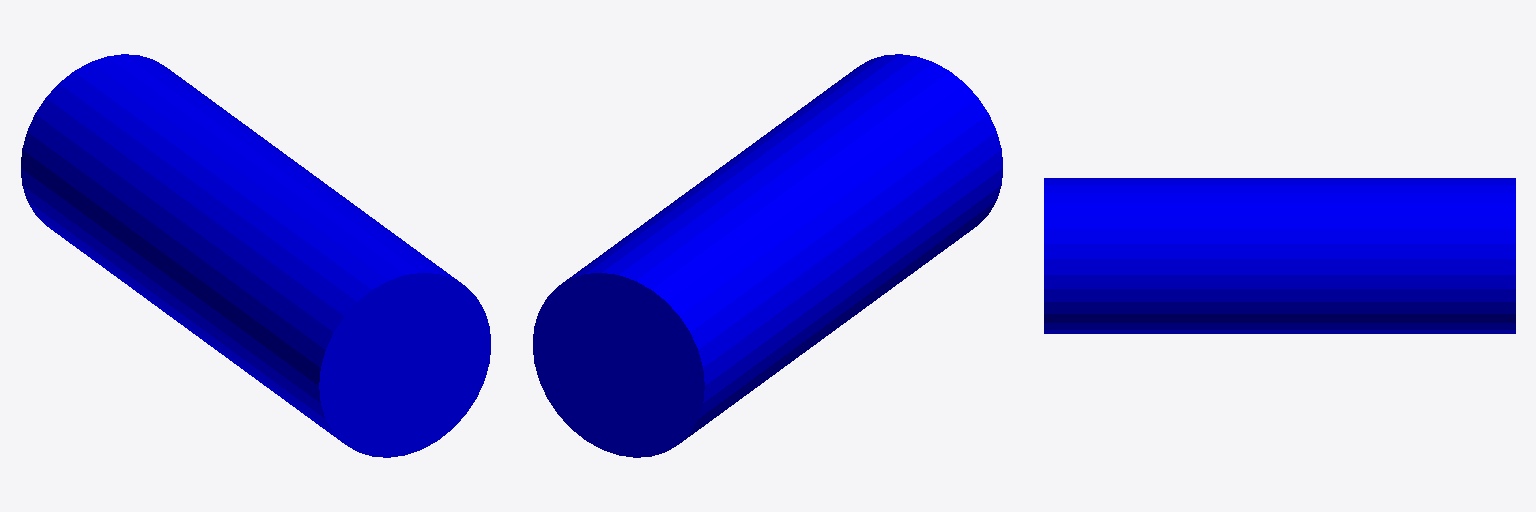
URDF robot description (cylinder):
<?xml version="1.0" ?>
<robot name="cylinder">
  <link name="baseLink">
    <contact>
      <lateral_friction value="1.0"/>
      <rolling_friction value="0.0"/>
      <contact_cfm value="0.0"/>
      <contact_erp value="1.0"/>
    </contact>
    <inertial>
      <origin rpy="0 0 0" xyz="0 0 0"/>
       <mass value="1.0"/>
       <inertia ixx="1" ixy="0" ixz="0" iyy="1" iyz="0" izz="1"/>
    </inertial>
    <visual>
      <origin rpy="0 0 0" xyz="0 0 0"/>
      <geometry>
				<mesh filename="cylinder.obj" scale="0.5 0.5 0.5"/>
      </geometry>
       <material name="blue">
        <color rgba="0 0 1 1"/>
      </material>
    </visual>
    <collision>
      <origin rpy="0 0 0" xyz="0 0 0"/>
      <geometry>
	 	<mesh filename="cylinder.obj" scale="0.5 0.5 0.5"/>
      </geometry>
    </collision>
  </link>
</robot>

--- Render facts (derived) ---
3 views of the same robot in one strip: view 1: azimuth 30°, elevation 25°; view 2: azimuth 150°, elevation 25°; view 3: azimuth 270°, elevation 25° (orthographic).
Model cylinder with 1 links and 0 joints (none), rooted at baseLink, posed all joints at 0.
Links seen in each view (by area): view 1: baseLink; view 2: baseLink; view 3: baseLink.
Boxes of the visible links, bbox=[...] form: baseLink: bbox=[21, 54, 490, 457]; baseLink: bbox=[533, 54, 1002, 457]; baseLink: bbox=[1044, 178, 1515, 333].
Bounding box of the posed robot: 1 × 3 × 1 m (x, y, z).
1 mesh visuals loaded from 1 distinct referenced files (1 OBJ).